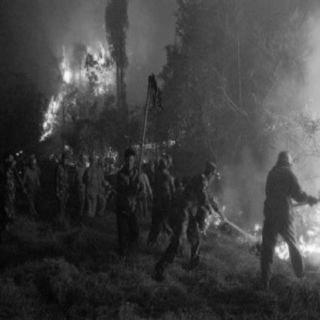Fire: (33, 42, 114, 146)
